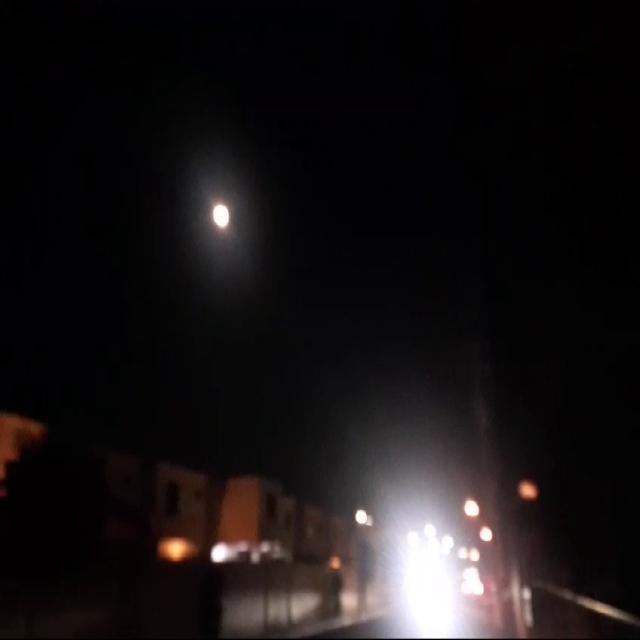moon: (238, 202, 256, 236)
